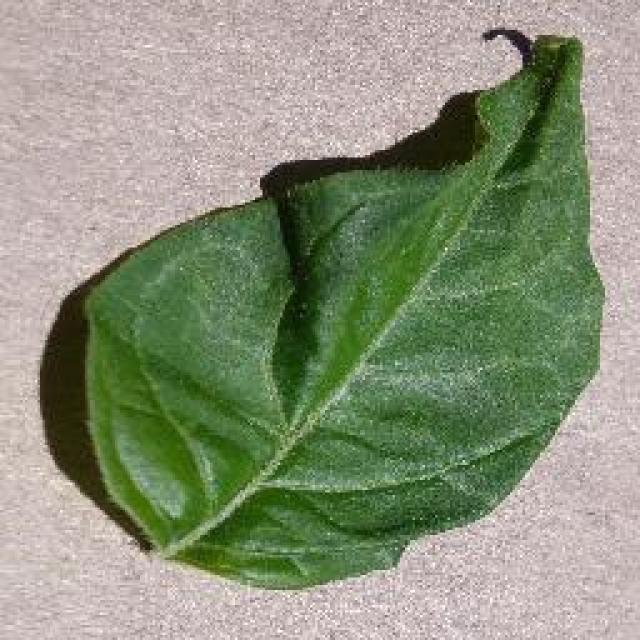Leaf: (27, 3, 625, 610)
